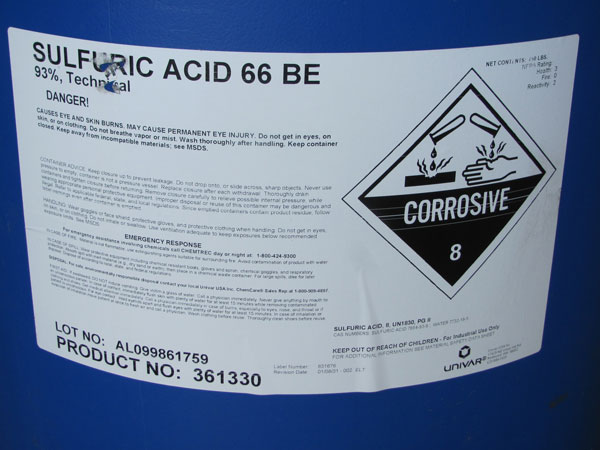Corrosive: (344, 73, 549, 285)
